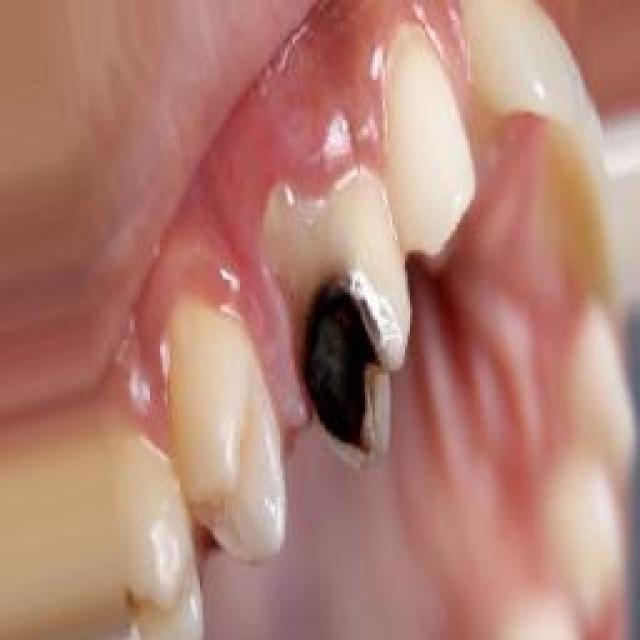caries: (305, 298, 383, 453)
